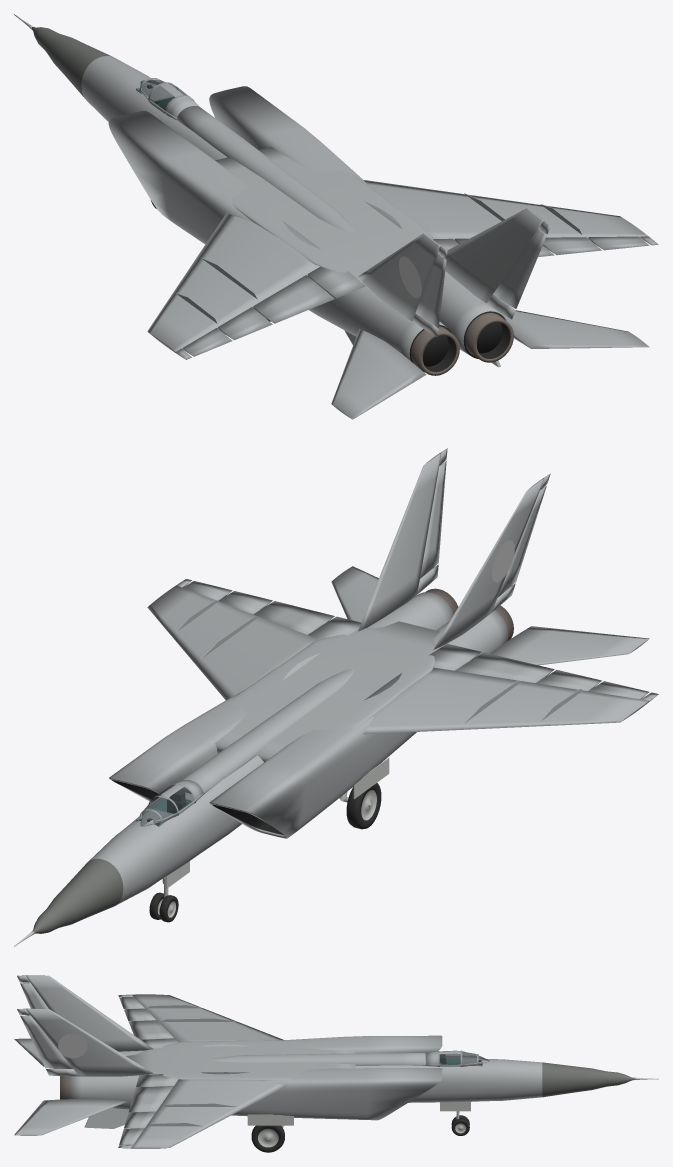
Rendered from SM_DST_Vehicle_MiG25.fbx.
3 views of the same model, one above another, from view 1: azimuth 30°, elevation 25°; view 2: azimuth 150°, elevation 25°; view 3: azimuth 270°, elevation 25° (orthographic). The views are drawn at different scales.
Visible parts, largest first — view 1: MiG25_Airframe, MiG25_Stabilator_L, MiG25_Stabilator_R, MiG25_Flap_L, MiG25_Rudder_R, MiG25_Nozzle_R, MiG25_Rudder_L, MiG25_Nozzle_L, MiG25_CanopyHood, MiG25_AileronIn_L, MiG25_AileronIn_R, MiG25_AileronOut_L (+1 smaller); view 2: MiG25_Airframe, MiG25_Stabilator_L, MiG25_Flap_L, MiG25_Stabilator_R, MiG25_Flap_R, MiG25_Rudder_R, MiG25_MainWheel_L, MiG25_CanopyHood, MiG25_Rudder_L, MiG25_AileronIn_L; view 3: MiG25_Airframe, MiG25_Stabilator_R, MiG25_Rudder_R, MiG25_Flap_R, MiG25_MainWheel_R, MiG25_Flap_L, MiG25_CanopyHood, MiG25_MainDoorOuter_R, MiG25_AileronIn_R, MiG25_Rudder_L, MiG25_AileronIn_L, MiG25_NoseDoor_R (+2 smaller).
Part boxes in pixels (<box>): MiG25_Airframe: <box>14,14,658,372</box>; MiG25_Stabilator_L: <box>331,328,426,419</box>; MiG25_Stabilator_R: <box>497,310,649,348</box>; MiG25_Flap_L: <box>253,275,334,323</box>; MiG25_Rudder_R: <box>493,229,546,308</box>; MiG25_Nozzle_R: <box>465,313,513,362</box>; MiG25_Rudder_L: <box>415,254,446,327</box>; MiG25_Nozzle_L: <box>411,326,459,375</box>; MiG25_CanopyHood: <box>148,82,199,120</box>; MiG25_AileronIn_L: <box>218,307,272,340</box>; MiG25_AileronIn_R: <box>543,237,601,255</box>; MiG25_AileronOut_L: <box>183,328,232,356</box>; MiG25_Airframe: <box>14,448,658,946</box>; MiG25_Stabilator_L: <box>490,626,649,665</box>; MiG25_Flap_L: <box>455,652,554,683</box>; MiG25_Stabilator_R: <box>331,566,378,622</box>; MiG25_Flap_R: <box>253,601,334,634</box>; MiG25_Rudder_R: <box>420,461,446,578</box>; MiG25_MainWheel_L: <box>346,783,381,829</box>; MiG25_CanopyHood: <box>148,780,204,815</box>; MiG25_Rudder_L: <box>497,486,546,597</box>; MiG25_AileronIn_L: <box>536,670,601,691</box>; MiG25_Airframe: <box>17,975,658,1148</box>; MiG25_Stabilator_R: <box>14,1098,127,1135</box>; MiG25_Rudder_R: <box>20,1015,72,1068</box>; MiG25_Flap_R: <box>128,1086,173,1112</box>; MiG25_MainWheel_R: <box>251,1125,284,1152</box>; MiG25_Flap_L: <box>129,1020,173,1039</box>; MiG25_CanopyHood: <box>425,1050,462,1066</box>; MiG25_MainDoorOuter_R: <box>247,1114,293,1125</box>; MiG25_AileronIn_R: <box>124,1111,155,1128</box>; MiG25_Rudder_L: <box>20,983,48,1008</box>; MiG25_AileronIn_L: <box>124,1008,155,1021</box>; MiG25_NoseDoor_R: <box>440,1101,470,1111</box>.
Size of the model in its own units: 14 by 6.05 by 24.98.
